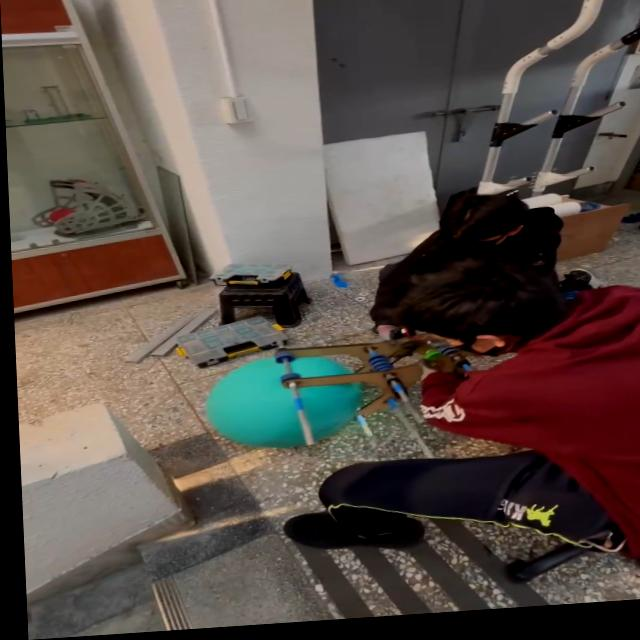ALGAE: (202, 349, 368, 454)
